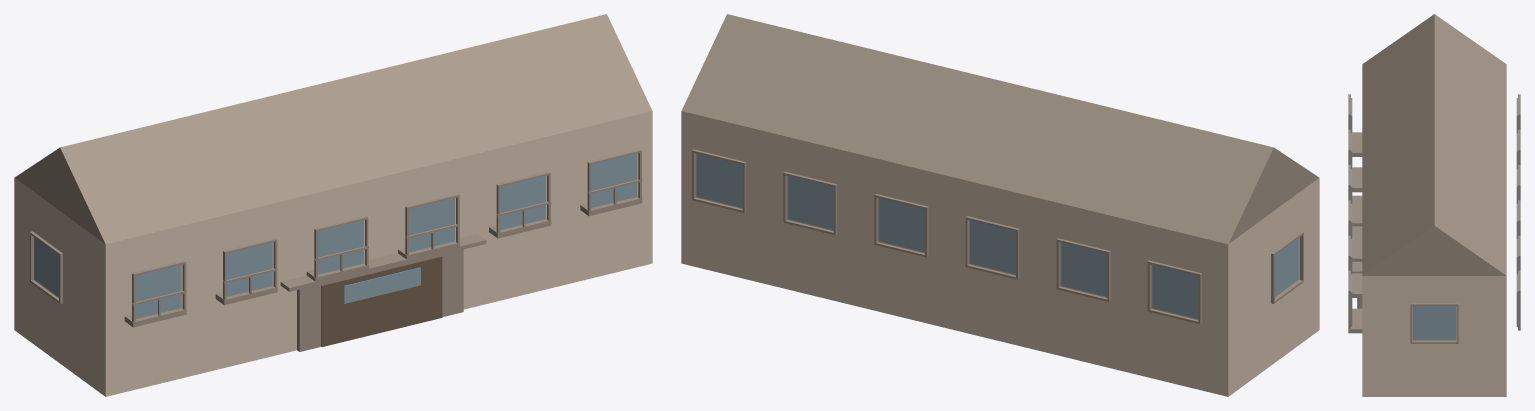
File: residential_3x1_a.glb
3 views of the same model, side by side, from view 1: azimuth 30°, elevation 25°; view 2: azimuth 150°, elevation 25°; view 3: azimuth 270°, elevation 25° (orthographic). The views are drawn at different scales.
Parts seen in each view (by area): view 1: residential_3x1_a_0; view 2: residential_3x1_a_0; view 3: residential_3x1_a_0.
Part boxes in pixels (x1,y1,x2,y2): residential_3x1_a_0: [14, 14, 652, 396]; residential_3x1_a_0: [681, 14, 1319, 396]; residential_3x1_a_0: [1348, 14, 1520, 396].
Size of the model in its own units: 23.74 by 8.5 by 7.74.
